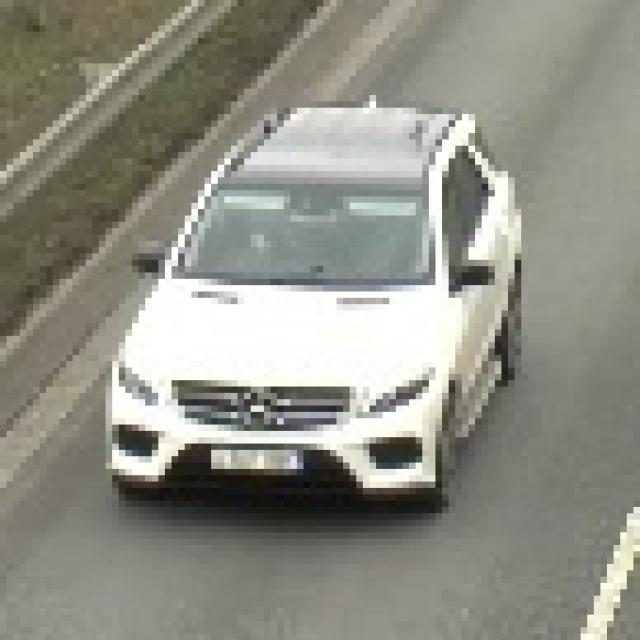SUV: (119, 116, 498, 506)
